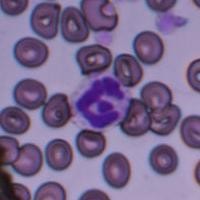N: (68, 70, 132, 130)
